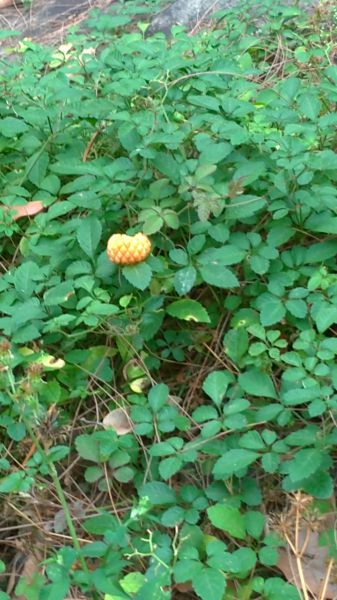eggs: (98, 231, 155, 265)
